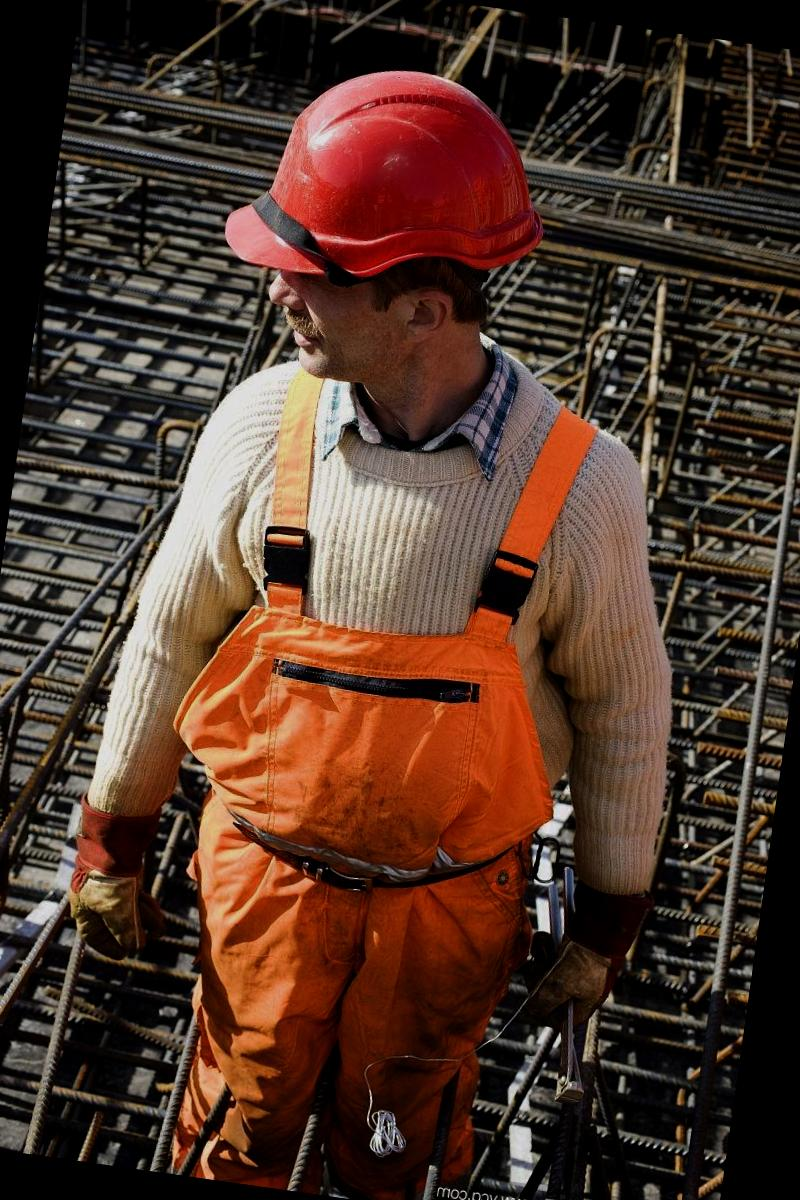helmet: (222, 40, 568, 314)
no_vest: (199, 367, 598, 876)
person: (24, 22, 771, 1200)
